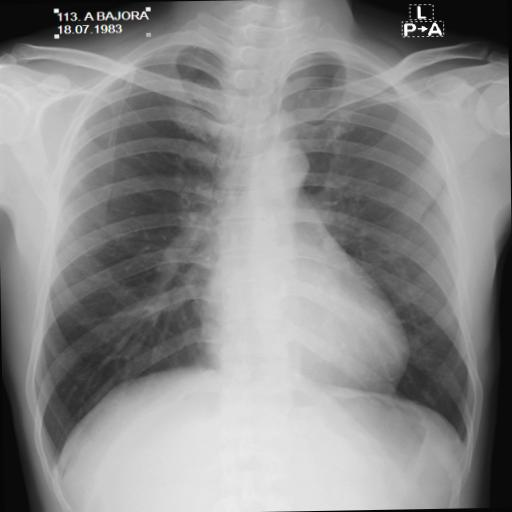kardiomegali: (22, 36, 488, 476)
